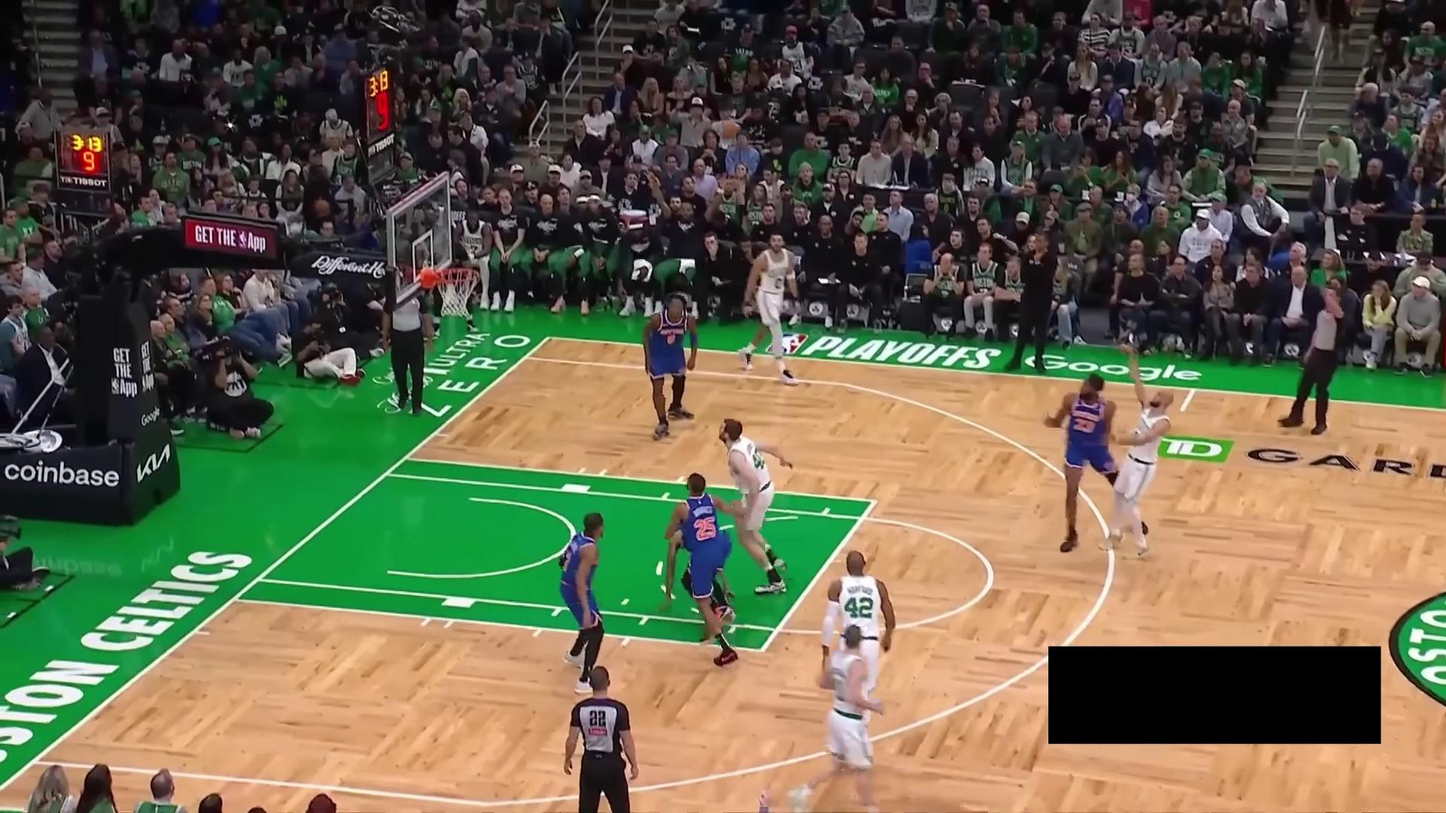ball: (720, 121, 742, 140)
number: (845, 595, 875, 620), (694, 516, 717, 541), (1073, 418, 1096, 433), (752, 447, 766, 470), (775, 276, 783, 289), (667, 333, 676, 344)
player: (758, 620, 878, 813), (1039, 370, 1153, 556), (663, 468, 754, 670), (1098, 342, 1180, 561), (816, 546, 895, 773), (715, 413, 799, 594), (634, 291, 705, 441), (736, 229, 802, 387), (553, 510, 607, 696)
referee: (562, 663, 640, 813), (1279, 282, 1355, 434), (379, 282, 438, 415)
rim: (435, 266, 479, 285)
